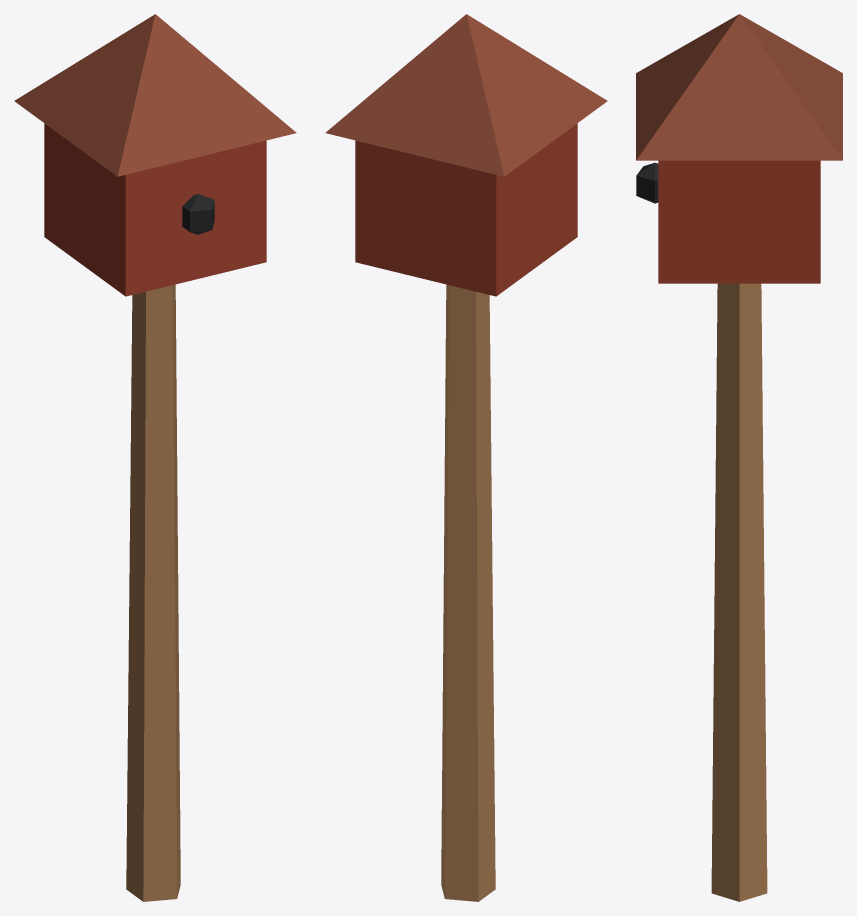
File: birdhouse.glb
3 views of the same model, side by side, from view 1: azimuth 30°, elevation 25°; view 2: azimuth 150°, elevation 25°; view 3: azimuth 270°, elevation 25° (orthographic).
Visible parts, largest first — view 1: birdhouse; view 2: birdhouse; view 3: birdhouse.
Boxes of the visible parts, x1=… form: birdhouse: x1=14, y1=14, x2=296, y2=901; birdhouse: x1=325, y1=14, x2=607, y2=901; birdhouse: x1=636, y1=14, x2=842, y2=901.
Size of the model in its own units: 0.6367 by 2.97 by 0.6367.
